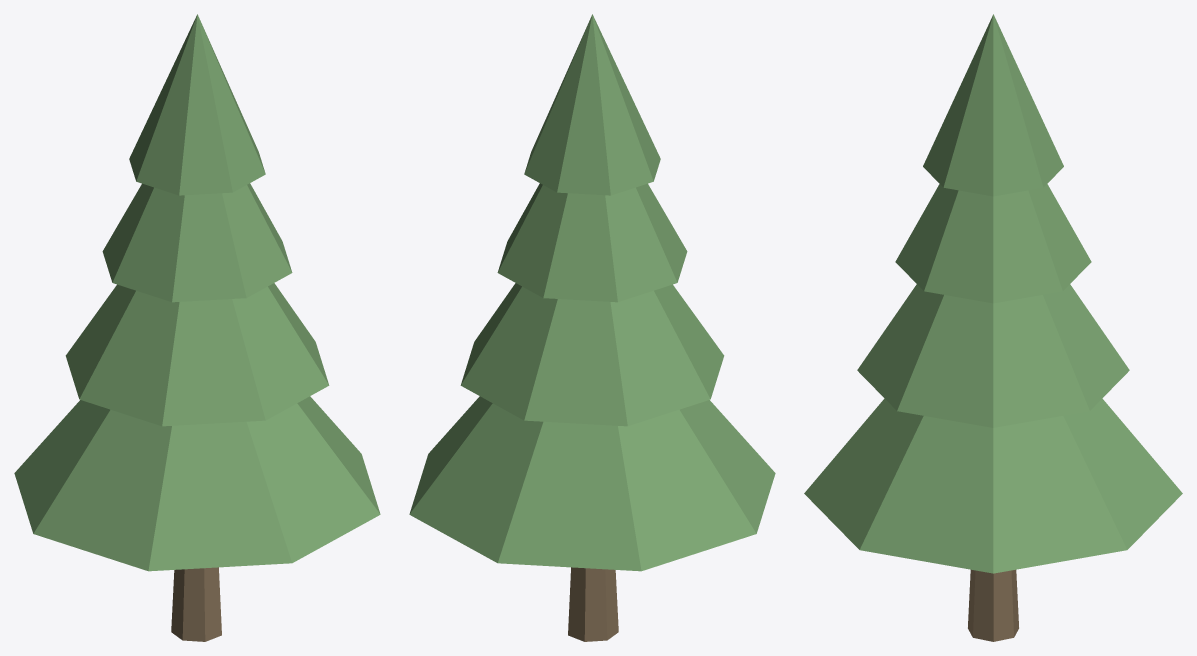
The model's file is nature_tree_pine_02.glb.
3 renders of one model, left to right at view 1: azimuth 30°, elevation 25°; view 2: azimuth 150°, elevation 25°; view 3: azimuth 270°, elevation 25°, orthographic.
Visible parts, largest first — view 1: geometry_0; view 2: geometry_0; view 3: geometry_0.
Part boxes in pixels (x1,y1,x2,y2): geometry_0: [14, 14, 380, 641]; geometry_0: [409, 14, 775, 641]; geometry_0: [804, 14, 1182, 641].
Size of the model in its own units: 2.3 by 4.13 by 2.3.
